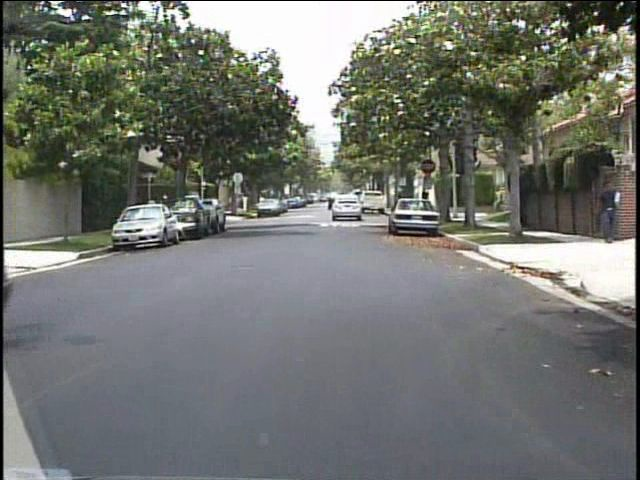person: (591, 176, 620, 248), (148, 193, 164, 229), (417, 185, 434, 215)
